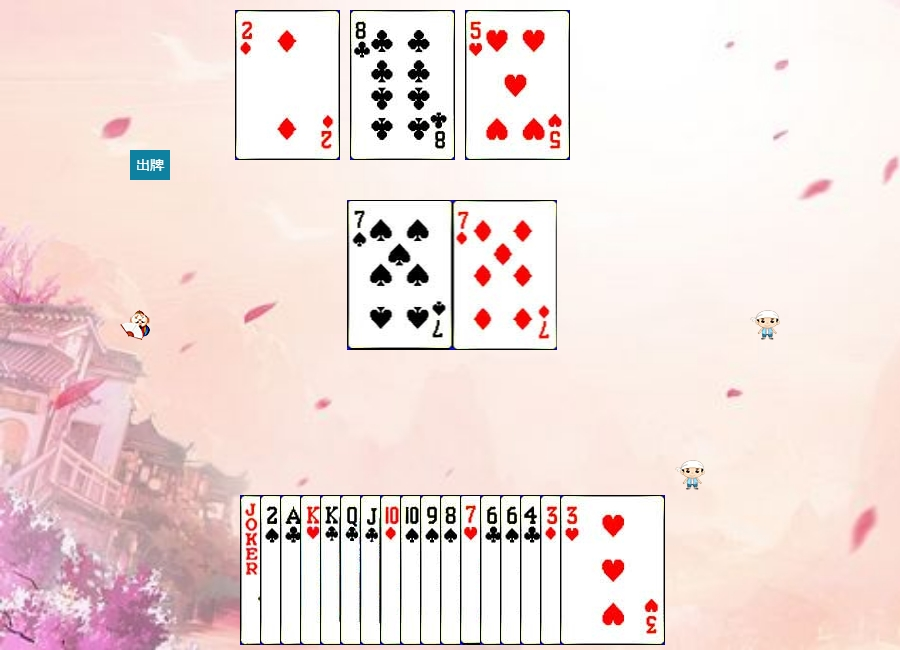10~1: (380, 495, 485, 645)
10~4: (400, 495, 505, 645)
11~2: (360, 495, 465, 645)
12~2: (340, 495, 445, 645)
13~2: (320, 495, 425, 645)
13~3: (300, 495, 405, 645)
14~2: (280, 495, 385, 645)
15~1: (235, 10, 340, 160)
15~4: (260, 495, 365, 645)
18~4: (240, 495, 345, 645)
3~1: (540, 495, 645, 645)
3~3: (560, 495, 665, 645)
4~2: (520, 495, 625, 645)
5~3: (465, 10, 570, 160)
6~2: (480, 495, 585, 645)
6~4: (500, 495, 605, 645)
7~1: (453, 200, 558, 350)
7~3: (460, 495, 565, 645)
7~4: (348, 200, 453, 350)
8~2: (350, 10, 455, 160)
8~4: (440, 495, 545, 645)
9~4: (420, 495, 525, 645)
